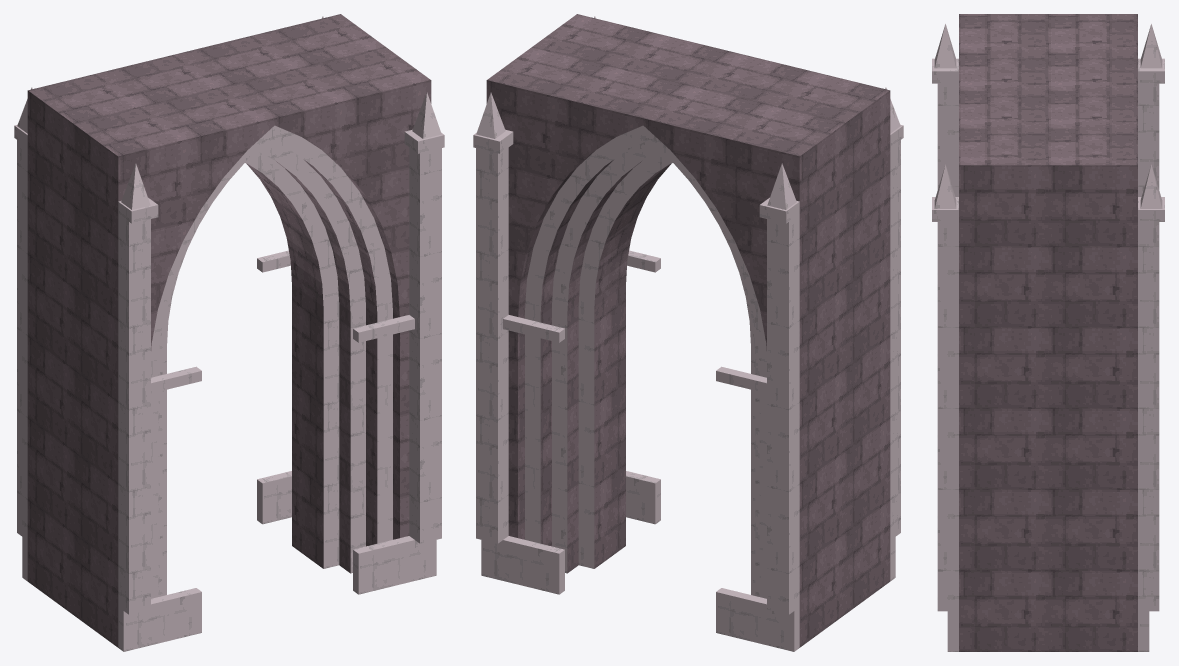
Rendered from door_frame_boss_b.glb.
3 views of the same model, side by side, from view 1: azimuth 30°, elevation 25°; view 2: azimuth 150°, elevation 25°; view 3: azimuth 270°, elevation 25° (orthographic).
Parts seen in each view (by area): view 1: portal_front, portal_back; view 2: portal_back, portal_front; view 3: portal_back, portal_front.
Part boxes in pixels (box(x1,y1,x2,y2)): portal_front: box(73, 47, 444, 651); portal_back: box(14, 14, 385, 614); portal_back: box(473, 47, 844, 651); portal_front: box(532, 14, 903, 614); portal_back: box(1048, 14, 1164, 651); portal_front: box(932, 14, 1048, 651).
Bounding box in the file's own units: 4 × 6 × 2.6.
1 material, 1 textured.
